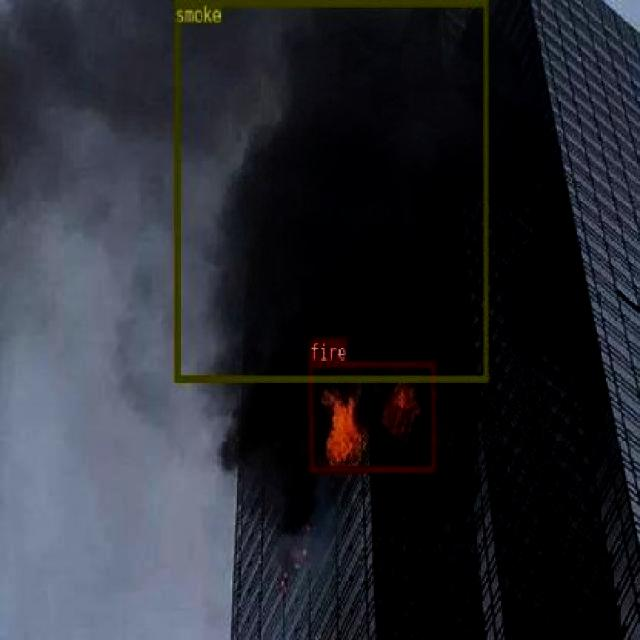fire: (308, 360, 434, 471)
smoke: (174, 0, 488, 382)
